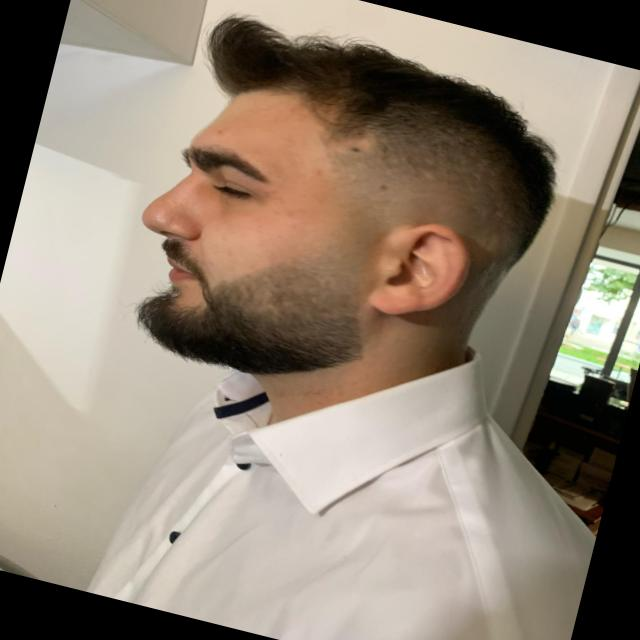Sero: (100, 0, 587, 451)
